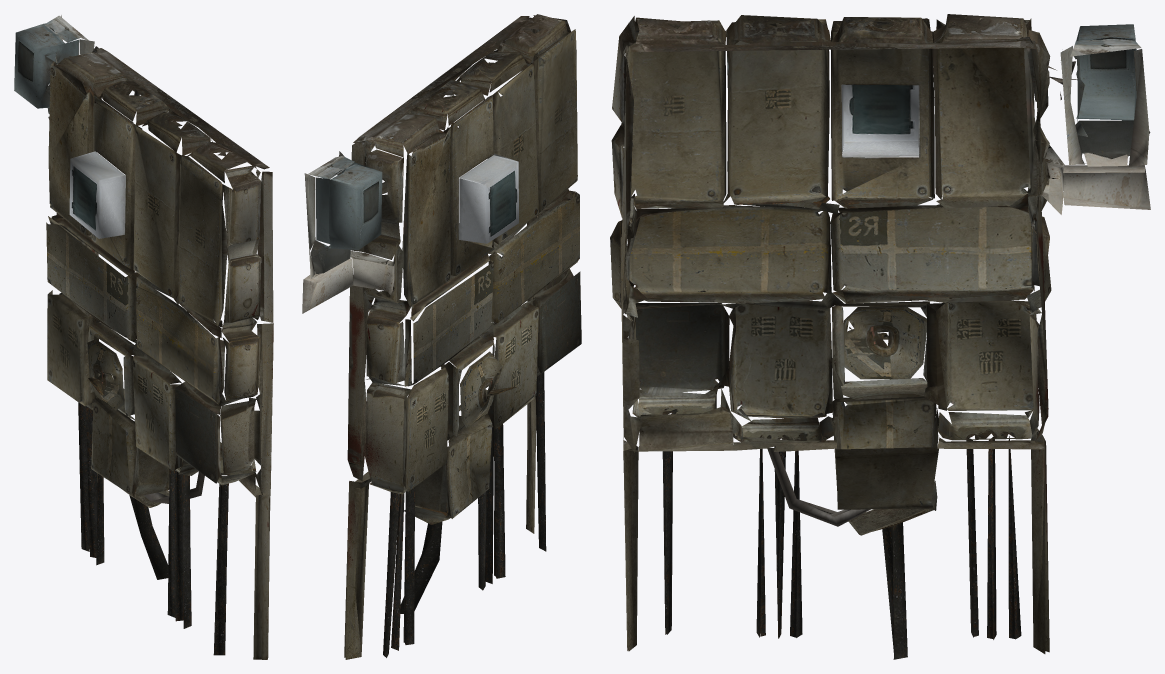
Rendered from Electrico.glb.
The picture shows the model from 3 angles, left to right: view 1: azimuth 30°, elevation 25°; view 2: azimuth 150°, elevation 25°; view 3: azimuth 270°, elevation 25°; orthographic projection. The views are drawn at different scales.
Visible parts, largest first — view 1: Object_2; view 2: Object_2; view 3: Object_2.
Part boxes in pixels (x1,y1,x2,y2): Object_2: (14,15,273,659); Object_2: (302,14,581,659); Object_2: (610,14,1150,659).
Bounding box in the file's own units: 0.0379 × 0.1916 × 0.1525.
1 material, 1 textured.
